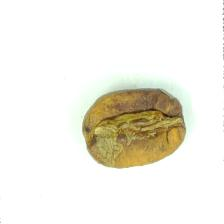NG: (83, 92, 180, 169)
